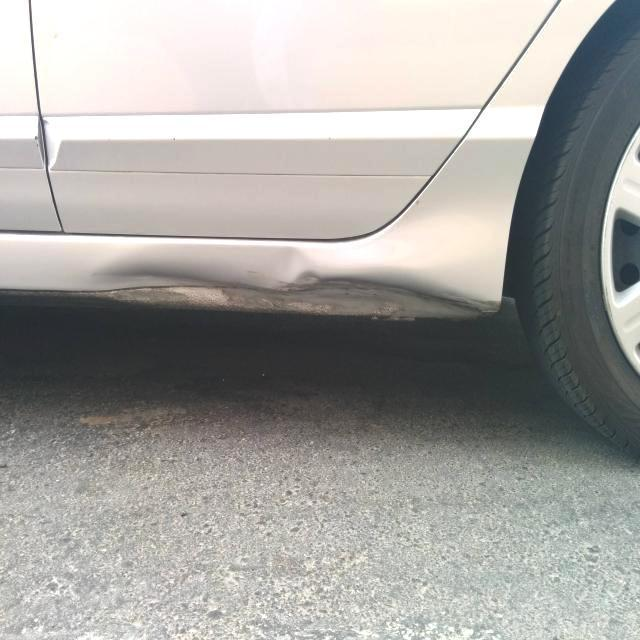minor: (64, 242, 503, 319)
